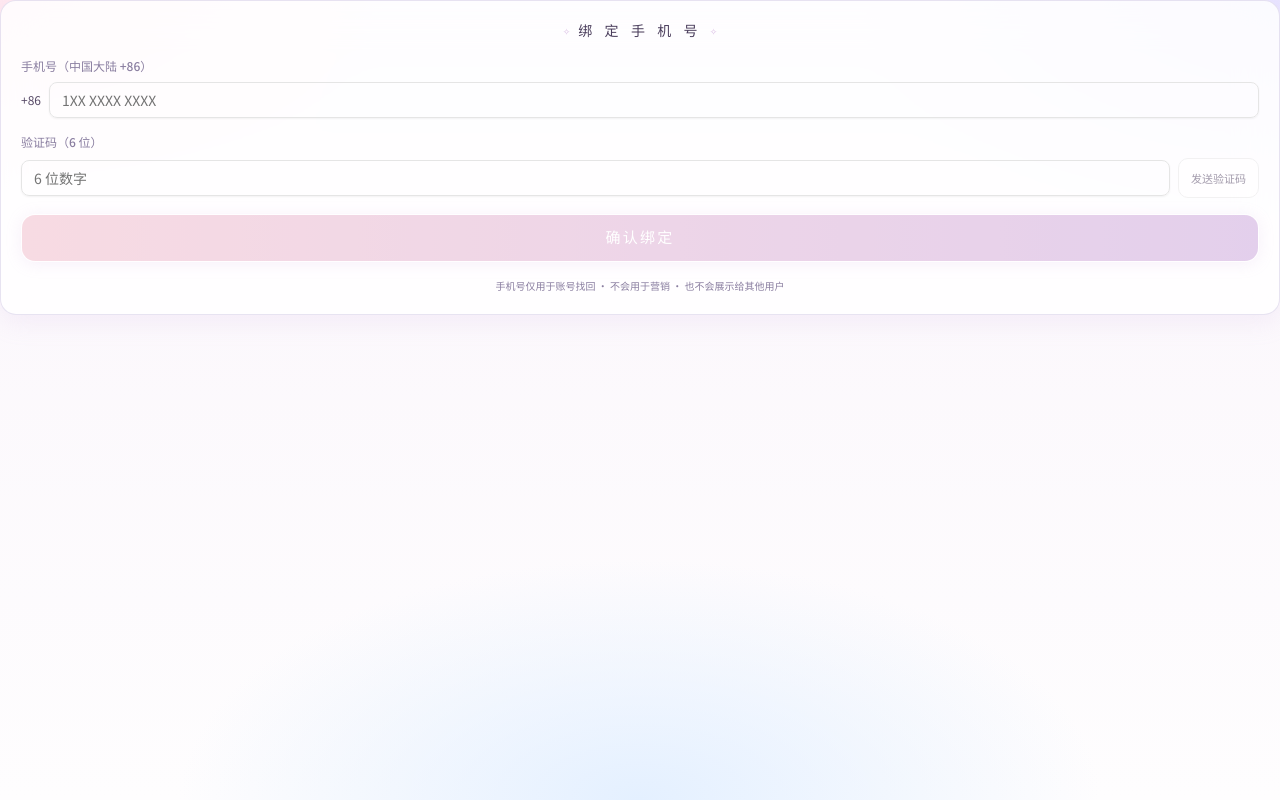
Test case: PhoneBindCard › code 输入自动过滤非数字
The width and height of the screenshot is (1280, 800).
Type "1a2b3c" into the field with test id "phone-code". click: (596, 178)
box: [21,160,1170,196]
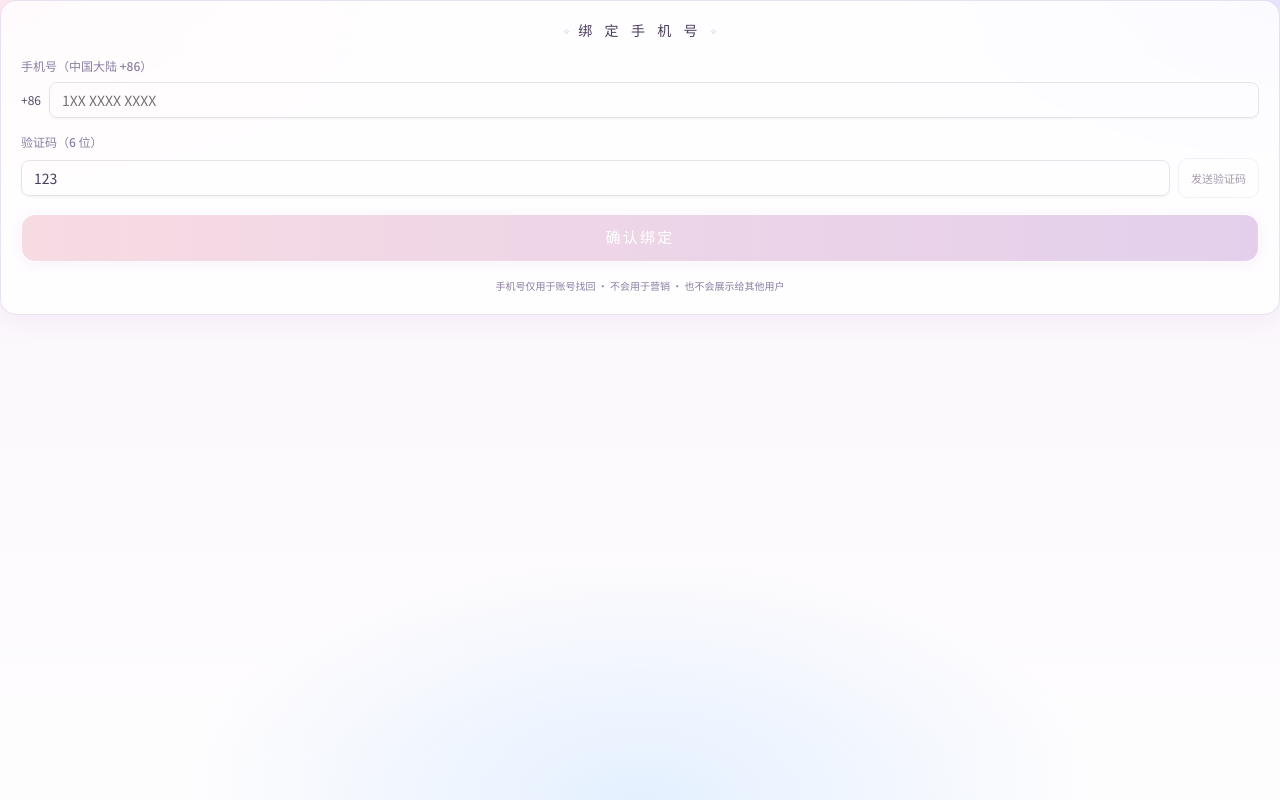
Result: the field with test id "phone-code" holds "123" at [21,160,1170,196]
